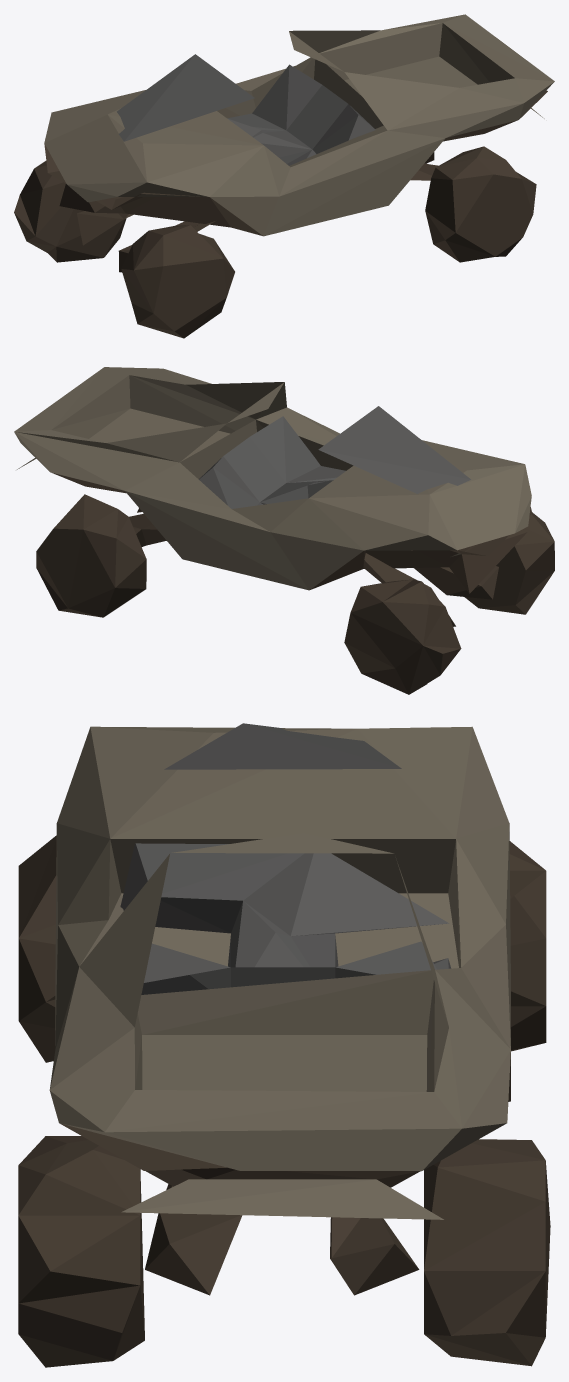
3 views of the same model, one above another, from view 1: azimuth 30°, elevation 25°; view 2: azimuth 150°, elevation 25°; view 3: azimuth 270°, elevation 25° (orthographic). The views are drawn at different scales.
Parts seen in each view (by area): view 1: defaultMaterial; view 2: defaultMaterial; view 3: defaultMaterial.
Boxes of the visible parts, bbox=[...] form: defaultMaterial: bbox=[14, 14, 554, 338]; defaultMaterial: bbox=[14, 367, 554, 694]; defaultMaterial: bbox=[18, 723, 550, 1367].
Size of the model in its own units: 1.93 by 0.8122 by 0.9846.
